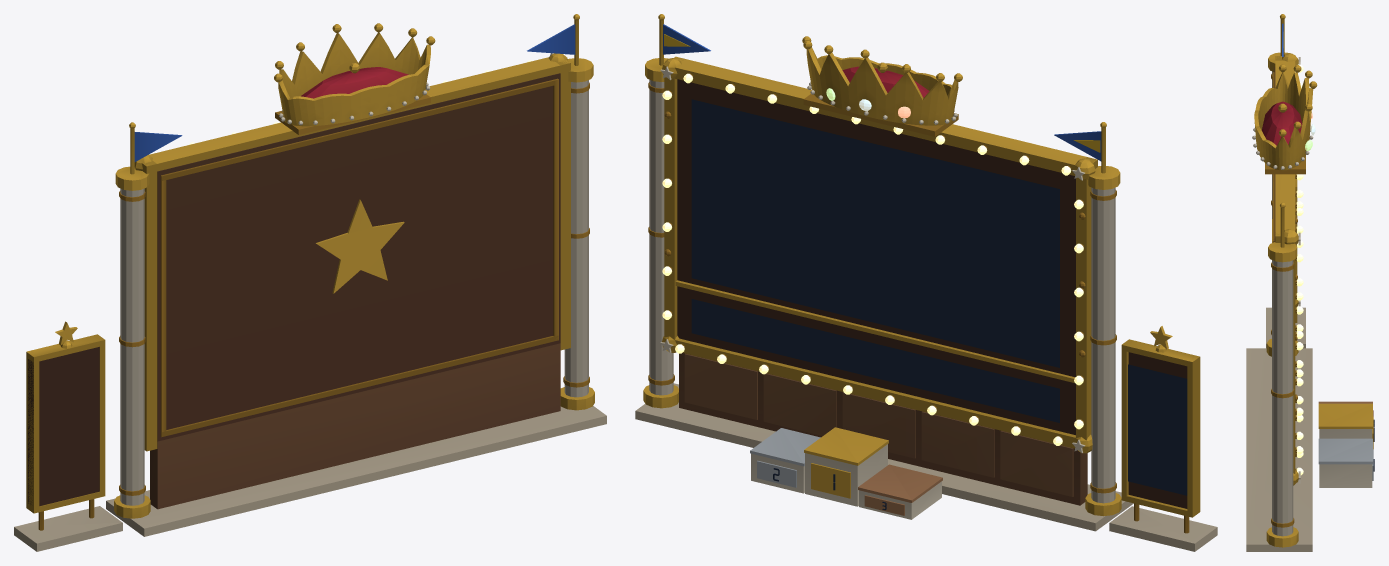
File: record_tower_low.glb
The picture shows the model from 3 angles, left to right: view 1: azimuth 30°, elevation 25°; view 2: azimuth 150°, elevation 25°; view 3: azimuth 270°, elevation 25°; orthographic projection. The views are drawn at different scales.
Parts seen in each view (by area): view 1: record_tower, flag_L, flag_R; view 2: record_tower, board_face, board_ticker, podium, board_honor, flag_L, flag_R; view 3: record_tower, podium.
Part boxes in pixels (x1,y1,x2,y2): record_tower: (14, 14, 606, 551); flag_L: (527, 24, 575, 54); flag_R: (134, 132, 182, 161); record_tower: (635, 14, 1217, 551); board_face: (691, 99, 1059, 367); board_ticker: (691, 299, 1059, 422); podium: (750, 427, 942, 519); board_honor: (1128, 364, 1187, 495); flag_L: (663, 24, 710, 54); flag_R: (1054, 131, 1101, 161); record_tower: (1246, 14, 1317, 551); podium: (1318, 401, 1374, 487).
Size of the model in its own units: 8.55 by 6.18 by 1.94.
